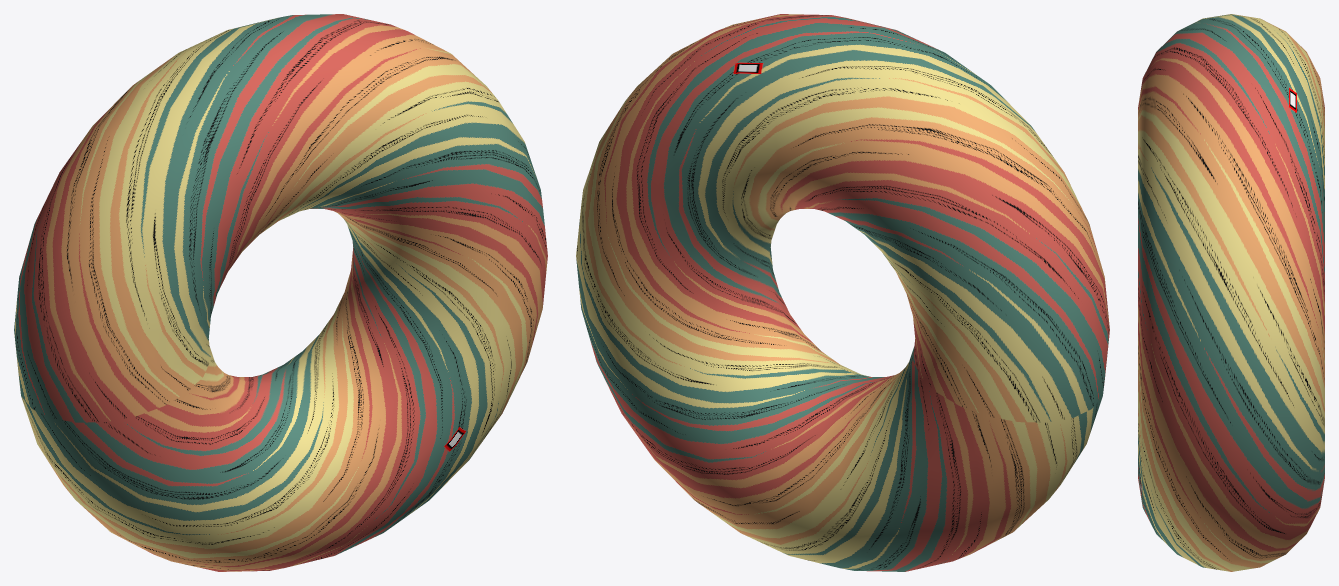
The model's file is uv_checkerboard_res_1024_iter_386_cat_map.obj.
The picture shows the model from 3 angles, left to right: view 1: azimuth 30°, elevation 25°; view 2: azimuth 150°, elevation 25°; view 3: azimuth 270°, elevation 25°; orthographic projection. The views are drawn at different scales.
Size of the model in its own units: 3 by 2.98 by 1.
Materials: 1 (1 with a texture image).
